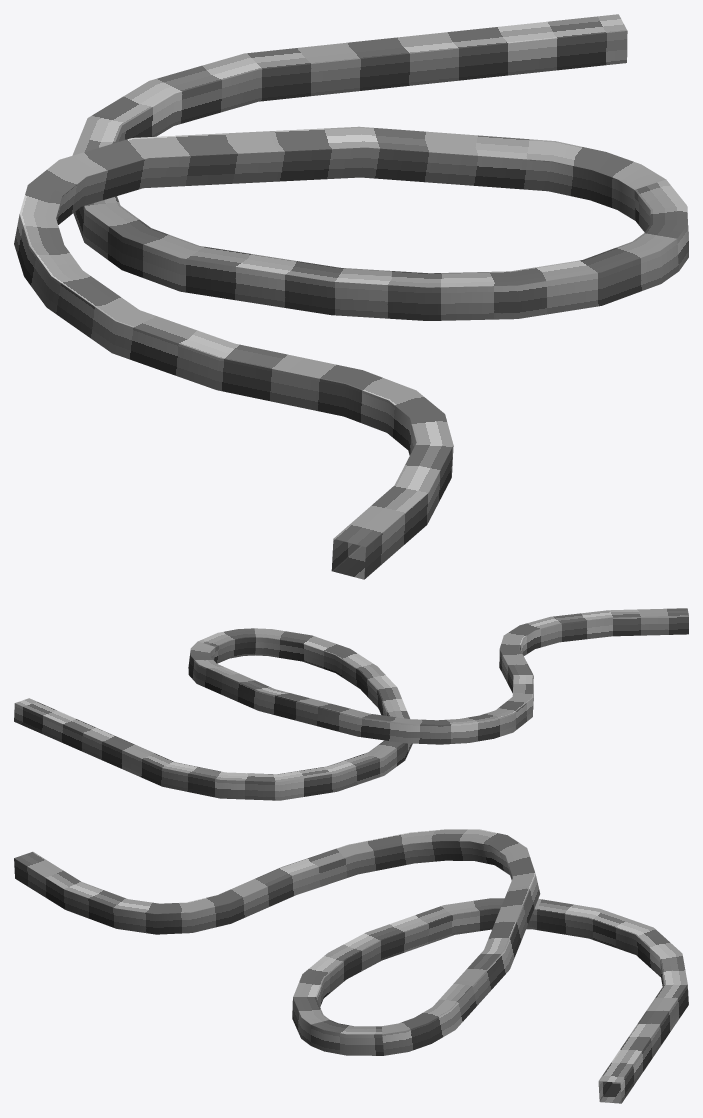
File: ammomaker_JewelryChain.fbx
3 renders of one model, top to bottom at view 1: azimuth 30°, elevation 25°; view 2: azimuth 150°, elevation 25°; view 3: azimuth 270°, elevation 25°, orthographic. The views are drawn at different scales.
Visible parts, largest first — view 1: ammomaker_JewelryChain; view 2: ammomaker_JewelryChain; view 3: ammomaker_JewelryChain.
Boxes of the visible parts, x1=… form: ammomaker_JewelryChain: x1=14, y1=14, x2=688, y2=579; ammomaker_JewelryChain: x1=14, y1=608, x2=688, y2=800; ammomaker_JewelryChain: x1=14, y1=829, x2=688, y2=1103.
Bounding box in the file's own units: 3.73 × 0.4645 × 4.6.
